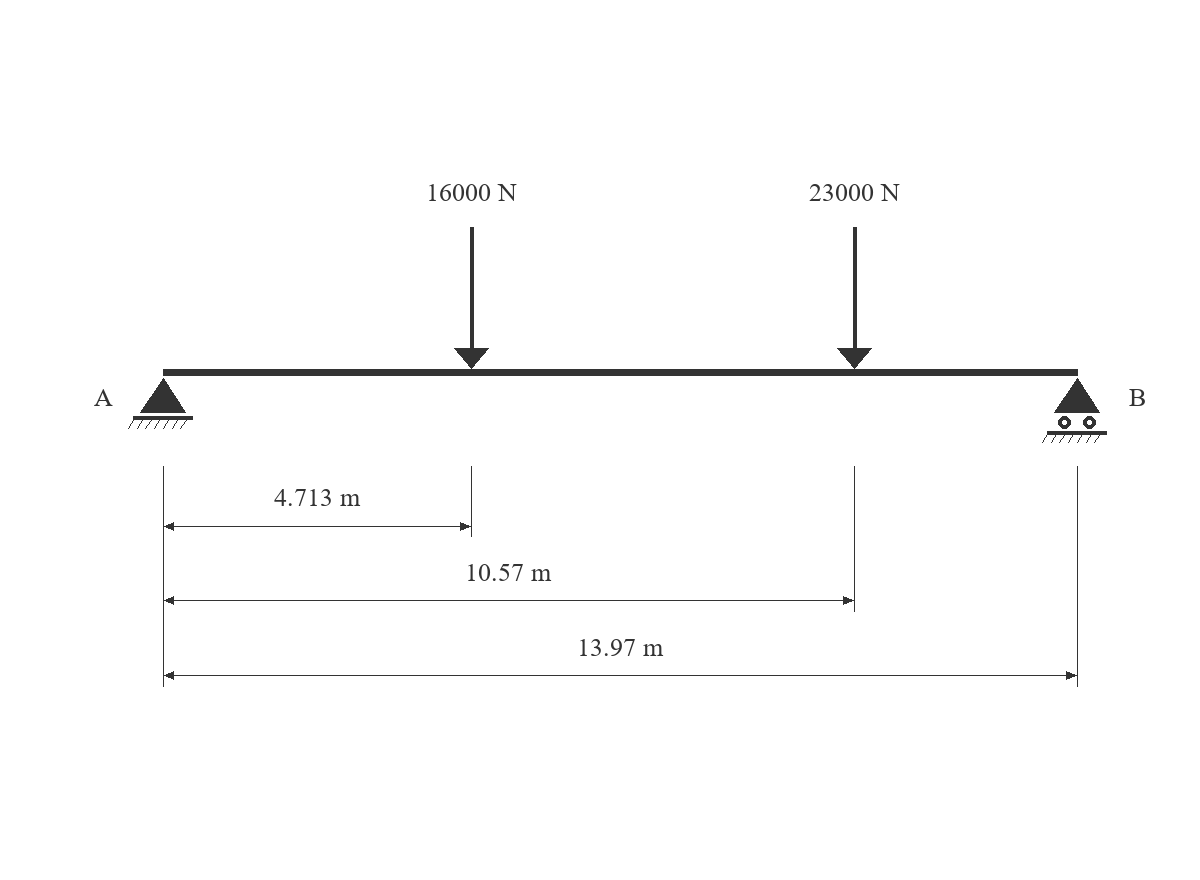pin_support: (128, 378, 193, 429)
point_load: (454, 227, 489, 369), (837, 227, 872, 369)
roller_support: (1042, 378, 1107, 443)
